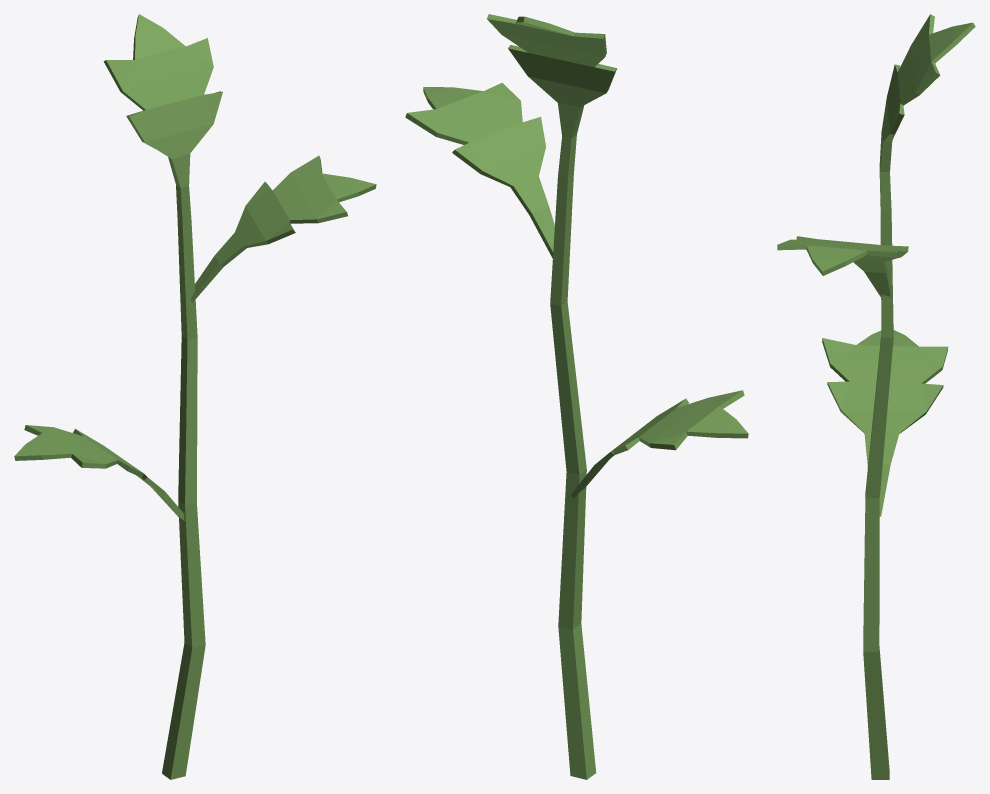
The model's file is Tomato_2.gltf.
3 views of the same model, side by side, from view 1: azimuth 30°, elevation 25°; view 2: azimuth 150°, elevation 25°; view 3: azimuth 270°, elevation 25° (orthographic). The views are drawn at different scales.
Visible parts, largest first — view 1: Tomato_2; view 2: Tomato_2; view 3: Tomato_2.
Part boxes in pixels (box(x1,y1,x2,y2)): Tomato_2: box(14, 14, 376, 779); Tomato_2: box(405, 14, 748, 779); Tomato_2: box(777, 14, 975, 779).
Size of the model in its own units: 0.3768 by 0.7908 by 0.1874.
